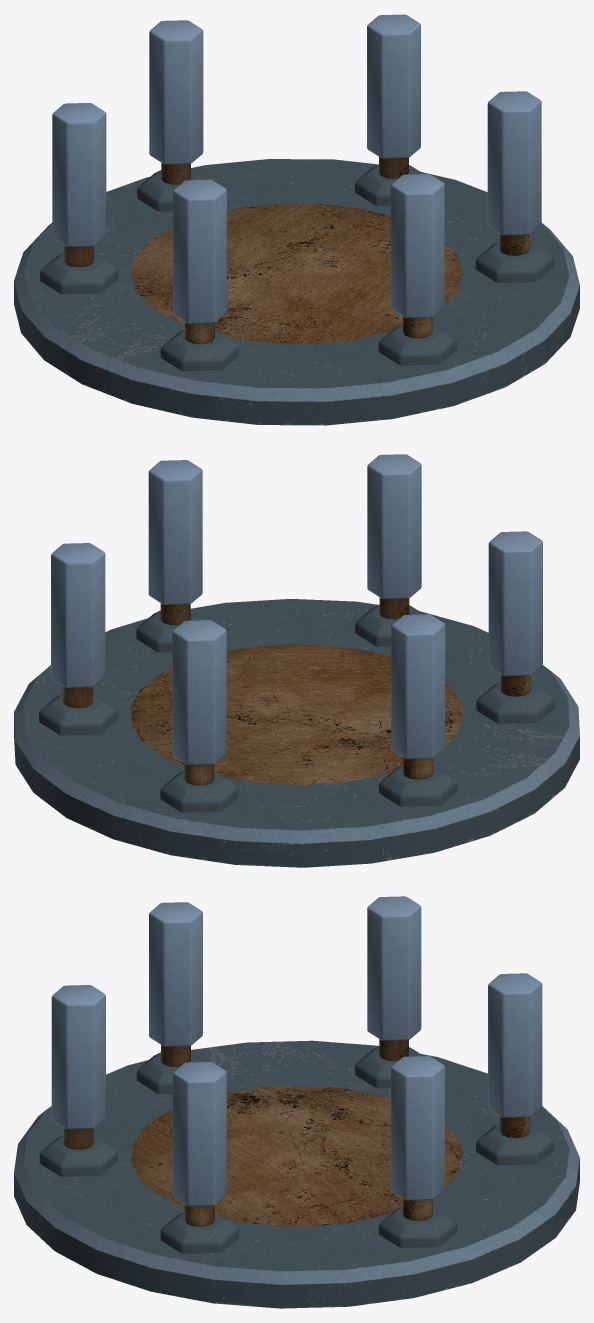
File: Obstacle-27.fbx
3 views of the same model, one above another, from view 1: azimuth 30°, elevation 25°; view 2: azimuth 150°, elevation 25°; view 3: azimuth 270°, elevation 25° (orthographic).
Parts seen in each view (by area): view 1: Obstacle-27-Parent, Obstacle-27-2, Obstacle-27-1; view 2: Obstacle-27-Parent, Obstacle-27-1, Obstacle-27-2; view 3: Obstacle-27-Parent, Obstacle-27-1, Obstacle-27-2.
Boxes of the visible parts, left/top/right/bottom form: Obstacle-27-Parent: left=14, top=159, right=579, bottom=425; Obstacle-27-2: left=137, top=20, right=553, bottom=371; Obstacle-27-1: left=40, top=14, right=456, bottom=365; Obstacle-27-Parent: left=14, top=599, right=579, bottom=867; Obstacle-27-1: left=39, top=454, right=457, bottom=806; Obstacle-27-2: left=136, top=460, right=554, bottom=812; Obstacle-27-Parent: left=14, top=1040, right=579, bottom=1308; Obstacle-27-1: left=39, top=896, right=457, bottom=1247; Obstacle-27-2: left=136, top=902, right=554, bottom=1253.
Size of the model in its own units: 2.97 by 1.16 by 2.97.
